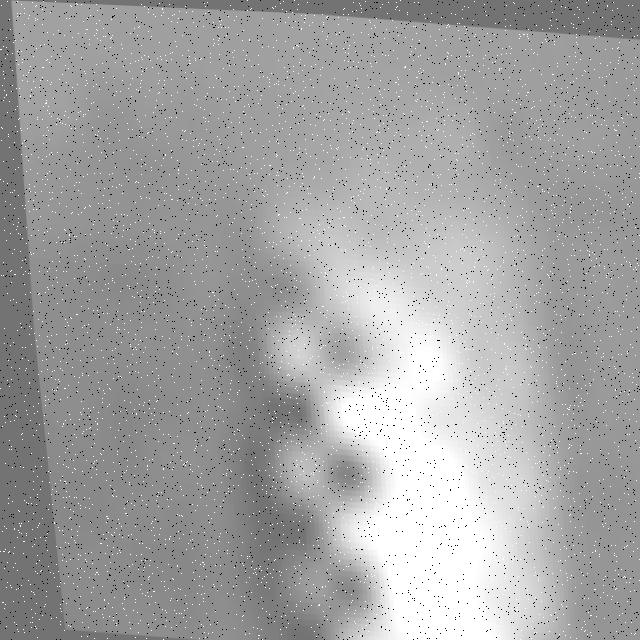person: (246, 146, 576, 640)
